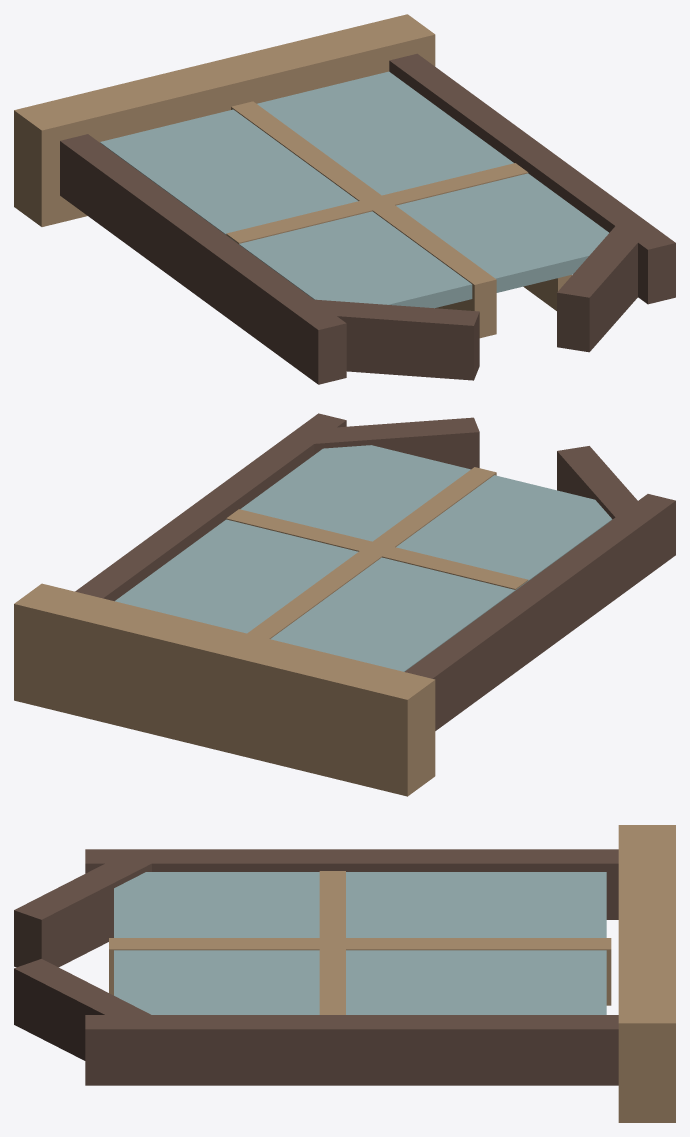
The model's file is medieval_gothic_arch_window.glb.
3 views of the same model, one above another, from view 1: azimuth 30°, elevation 25°; view 2: azimuth 150°, elevation 25°; view 3: azimuth 270°, elevation 25° (orthographic). The views are drawn at different scales.
Parts seen in each view (by area): view 1: medieval_gothic_arch_window_000, medieval_gothic_arch_window_003, medieval_gothic_arch_window_001, medieval_gothic_arch_window_002, medieval_gothic_arch_window_004, medieval_gothic_arch_window_006, medieval_gothic_arch_window_005, medieval_gothic_arch_window_007, medieval_gothic_arch_window_009; view 2: medieval_gothic_arch_window_000, medieval_gothic_arch_window_003, medieval_gothic_arch_window_001, medieval_gothic_arch_window_002, medieval_gothic_arch_window_005, medieval_gothic_arch_window_006, medieval_gothic_arch_window_007, medieval_gothic_arch_window_004; view 3: medieval_gothic_arch_window_000, medieval_gothic_arch_window_002, medieval_gothic_arch_window_003, medieval_gothic_arch_window_001, medieval_gothic_arch_window_004, medieval_gothic_arch_window_005, medieval_gothic_arch_window_006, medieval_gothic_arch_window_007.
Part boxes in pixels (x1,y1,x2,y2): medieval_gothic_arch_window_000: (100,71,608,308); medieval_gothic_arch_window_003: (14,14,435,226); medieval_gothic_arch_window_001: (60,134,346,384); medieval_gothic_arch_window_002: (389,53,675,304); medieval_gothic_arch_window_004: (302,299,479,380); medieval_gothic_arch_window_006: (231,101,496,338); medieval_gothic_arch_window_005: (557,223,649,352); medieval_gothic_arch_window_007: (226,163,528,244); medieval_gothic_arch_window_009: (523,275,571,310); medieval_gothic_arch_window_000: (115,445,612,671); medieval_gothic_arch_window_003: (14,583,435,796); medieval_gothic_arch_window_001: (405,494,675,730); medieval_gothic_arch_window_002: (75,413,346,601); medieval_gothic_arch_window_005: (302,417,479,469); medieval_gothic_arch_window_006: (247,467,496,638); medieval_gothic_arch_window_007: (226,509,528,589); medieval_gothic_arch_window_004: (557,446,649,519); medieval_gothic_arch_window_000: (114,872,606,1014); medieval_gothic_arch_window_002: (85,1015,618,1085); medieval_gothic_arch_window_003: (618,825,675,1122); medieval_gothic_arch_window_001: (85,849,618,919); medieval_gothic_arch_window_004: (14,851,155,967); medieval_gothic_arch_window_005: (14,959,154,1060); medieval_gothic_arch_window_006: (109,938,611,1005); medieval_gothic_arch_window_007: (319,871,345,1014).
Bounding box in the file's own units: 0.98 × 0.23 × 1.38.
